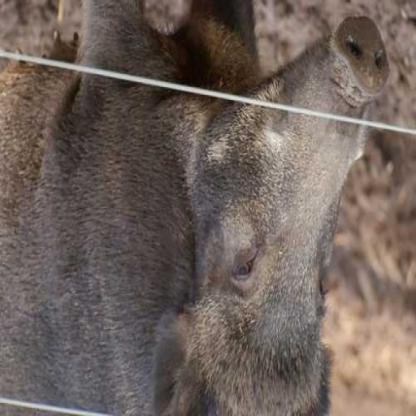boar: (7, 9, 415, 416)
